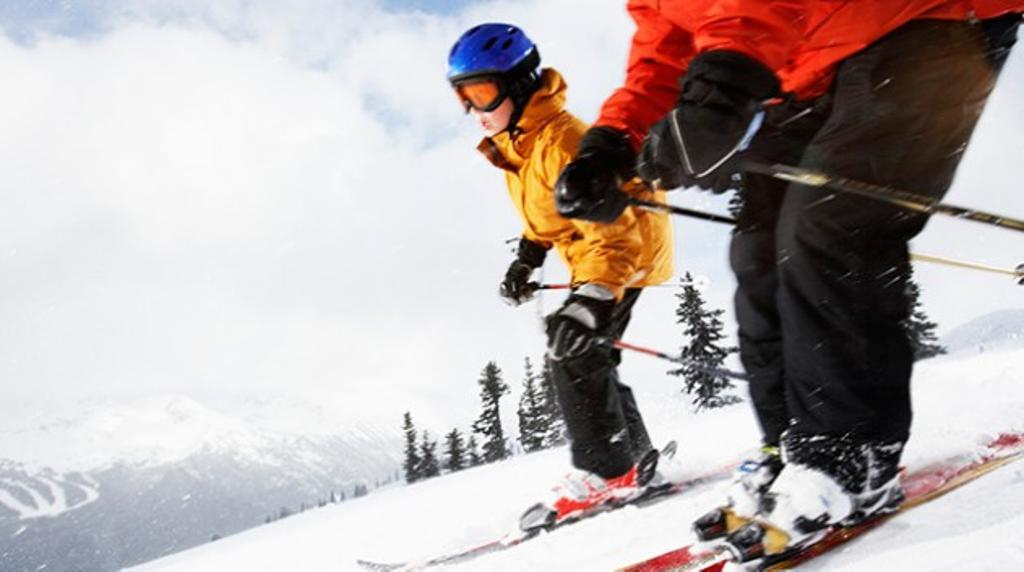face: (455, 73, 515, 139)
